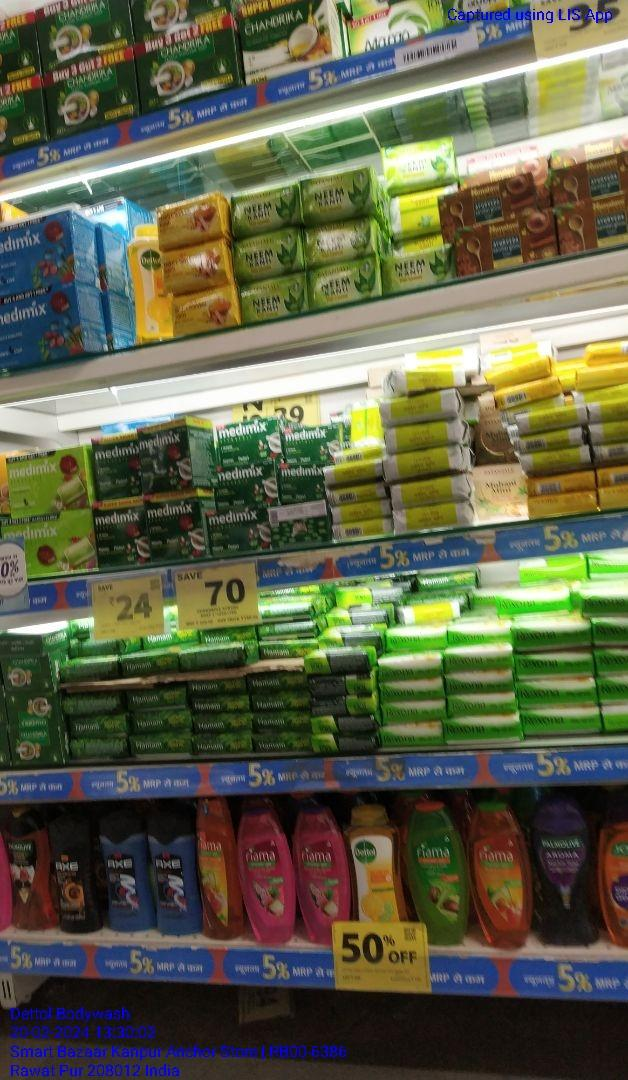Dettol_Bodywash_Refresh: (354, 808, 405, 920)
Fiama_Shower_Gel_Lemongrass_and_Jojoba_250ML: (406, 805, 466, 917)
Fiama_Shower_Gel_Patchouli_and_Macadamia_250ML: (245, 801, 295, 945), (299, 809, 351, 923)
Fiama_Shower_Gel_Peach_and_Avocado_250ML: (471, 802, 528, 953), (196, 793, 242, 938)
Palmolive_Aroma_Relax_250ML: (535, 795, 596, 946)
Palmolive_Luminous_Oils_With_White_Orchid_Shower_Gel_250ML: (5, 802, 47, 929)
